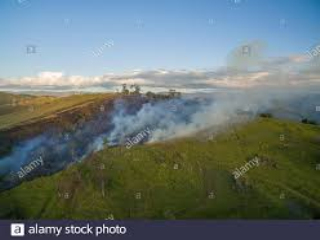smoke: (110, 49, 316, 154), (5, 116, 117, 183)
